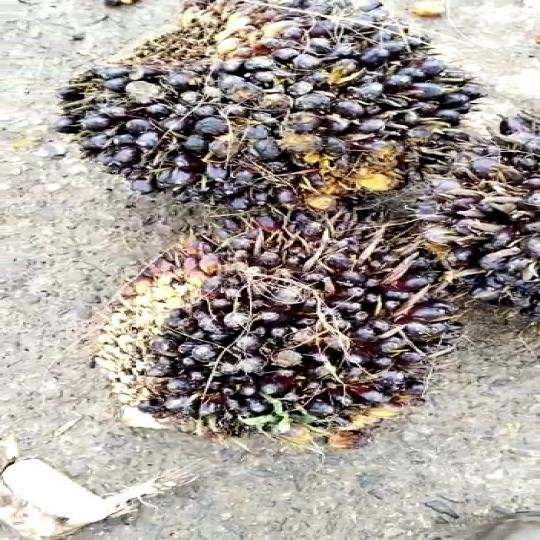mentah: (56, 2, 485, 215), (78, 204, 449, 449), (438, 85, 540, 325)
